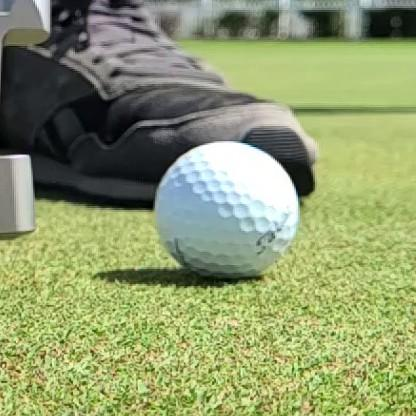golfball: (156, 142, 298, 279)
